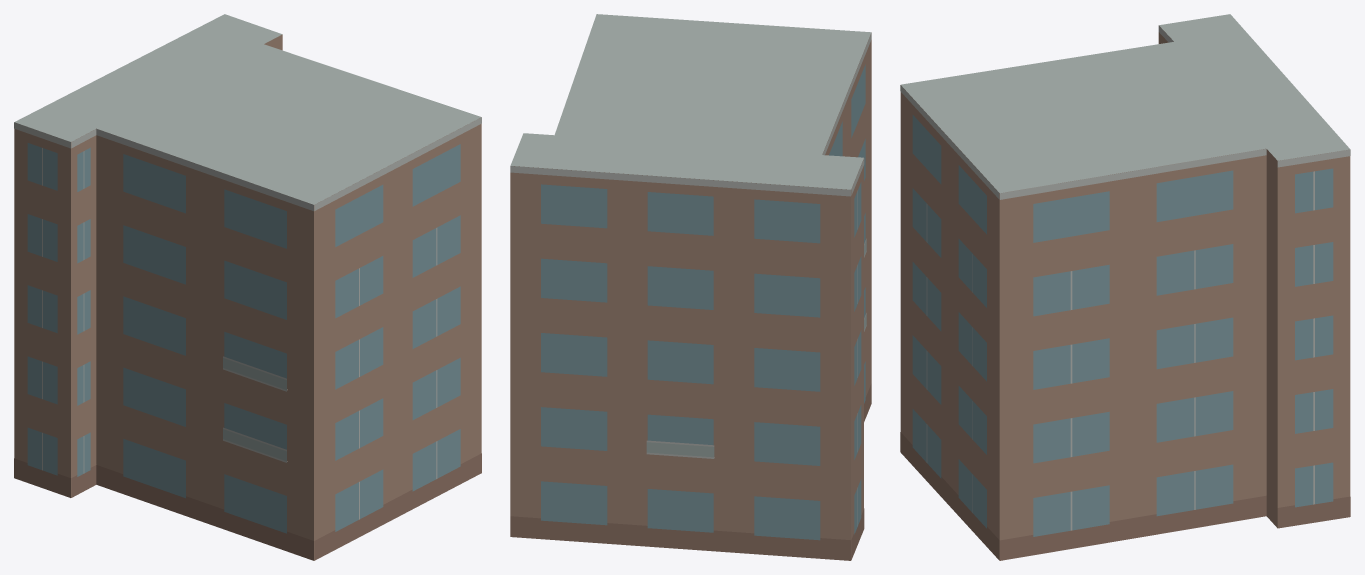
The model's file is survey-upis-32847302.glb.
3 renders of one model, left to right at view 1: azimuth 30°, elevation 25°; view 2: azimuth 150°, elevation 25°; view 3: azimuth 270°, elevation 25°, orthographic. The views are drawn at different scales.
Visible parts, largest first — view 1: survey-upis-32847302.tmp; view 2: survey-upis-32847302.tmp; view 3: survey-upis-32847302.tmp.
Boxes of the visible parts, left/top/right/bottom form: survey-upis-32847302.tmp: left=14, top=14, right=481, bottom=560; survey-upis-32847302.tmp: left=510, top=14, right=871, bottom=560; survey-upis-32847302.tmp: left=900, top=14, right=1350, bottom=560.
Size of the model in its own units: 14.03 by 13.4 by 14.88.
